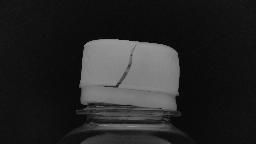Broken Cap: (74, 38, 184, 122)
